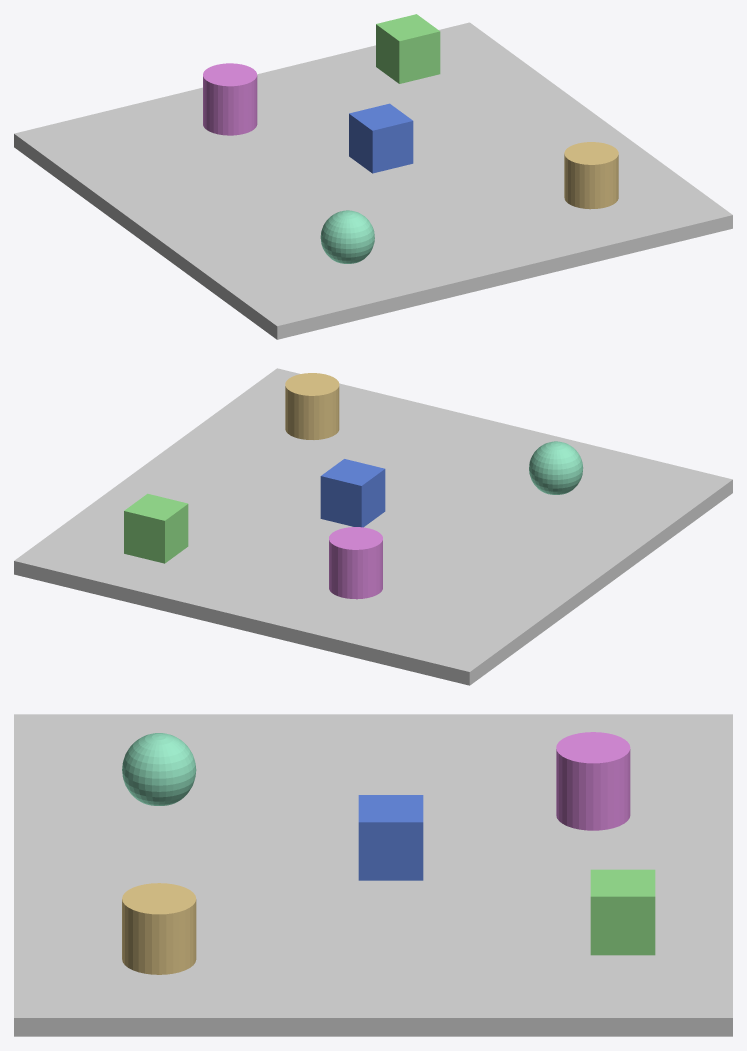
Rendered from test-road.glb.
3 views of the same model, one above another, from view 1: azimuth 30°, elevation 25°; view 2: azimuth 150°, elevation 25°; view 3: azimuth 270°, elevation 25° (orthographic). The views are drawn at different scales.
Parts seen in each view (by area): view 1: 立方体, Cube.002, Cube.001, Cylinder.001, Cylinder, Sphere; view 2: 立方体, Cube.001, Cube.002, Cylinder.001, Cylinder, Sphere; view 3: 立方体, Cylinder.001, Cylinder, Cube.002, Cube.001, Sphere.
Part boxes in pixels (box(x1,y1,x2,y2)): 立方体: box(14, 22, 732, 339); Cube.002: box(376, 14, 440, 83); Cube.001: box(349, 103, 413, 173); Cylinder.001: box(203, 63, 257, 135); Cylinder: box(564, 142, 618, 209); Sphere: box(320, 210, 374, 263); 立方体: box(14, 368, 732, 685); Cube.001: box(320, 459, 385, 527); Cube.002: box(124, 493, 188, 563); Cylinder.001: box(329, 527, 382, 599); Cylinder: box(285, 373, 339, 439); Sphere: box(529, 441, 583, 494); 立方体: box(14, 714, 732, 1036); Cylinder.001: box(556, 732, 630, 830); Cylinder: box(122, 883, 196, 974); Cube.002: box(590, 869, 655, 955); Cube.001: box(358, 795, 423, 880); Sphere: box(122, 733, 196, 805).
Size of the model in its own units: 19.36 by 2.83 by 19.36.
